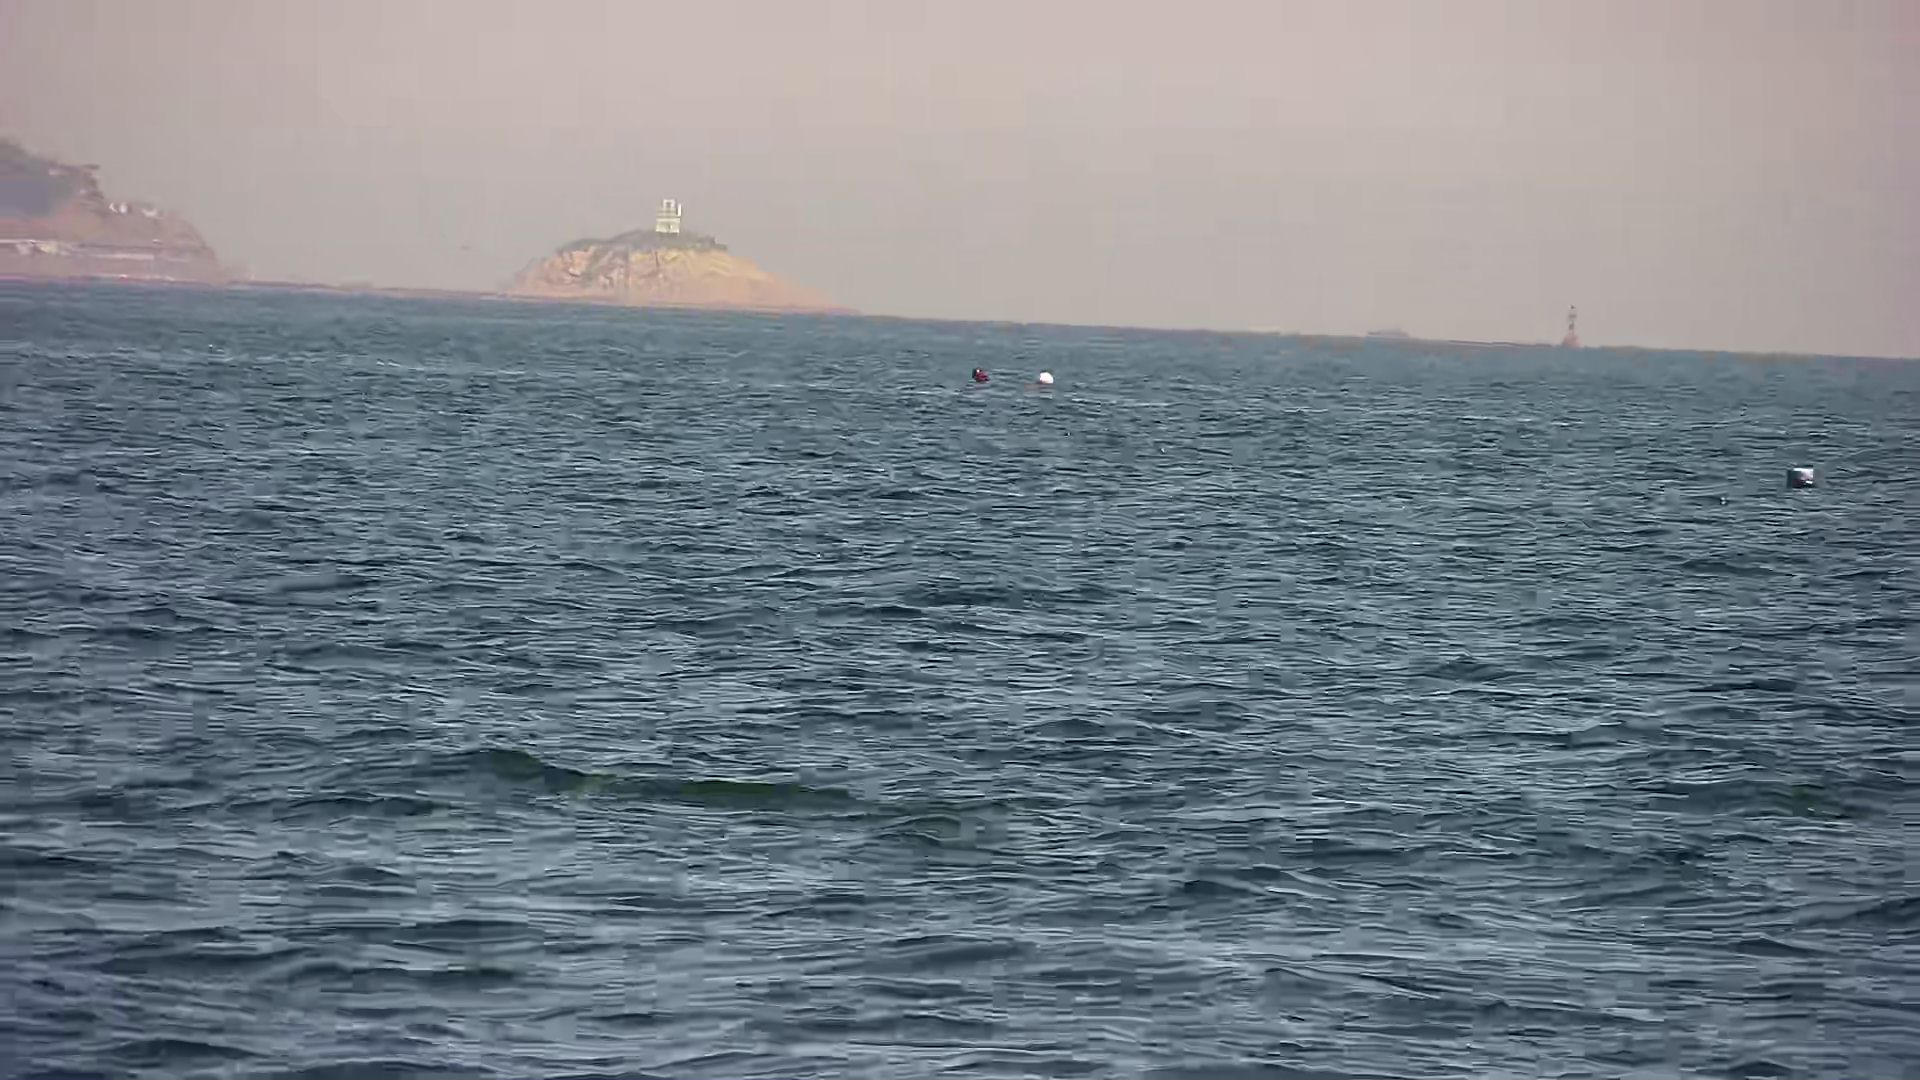rock: (1, 127, 302, 297), (485, 196, 874, 320)
rubbish: (1770, 456, 1833, 493), (953, 353, 1002, 390), (1030, 356, 1064, 396)
